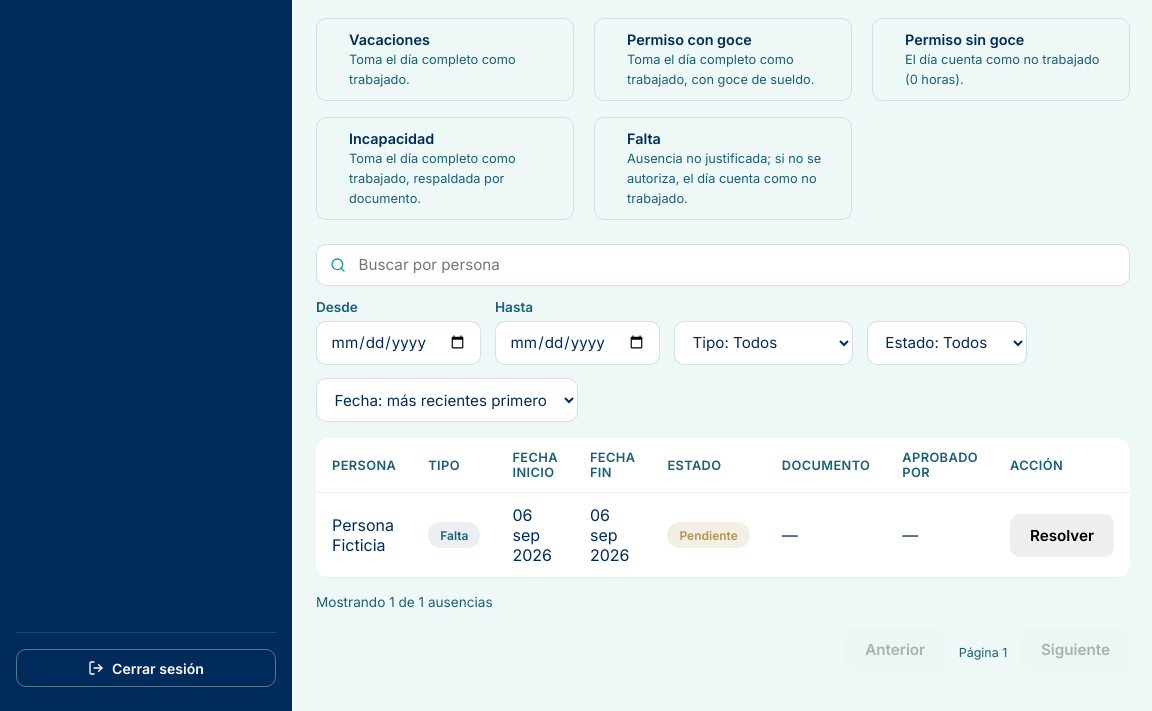
BandejaAusenciasPage › flujo completo: autorizar con reclasificación dispara el POST correcto y recarga
(page scrolled)
Check: the text "Persona Ficticia" is shown, box [316,493,412,578]
Click the button "Resolver": (1062, 535) [1010,514,1114,557]
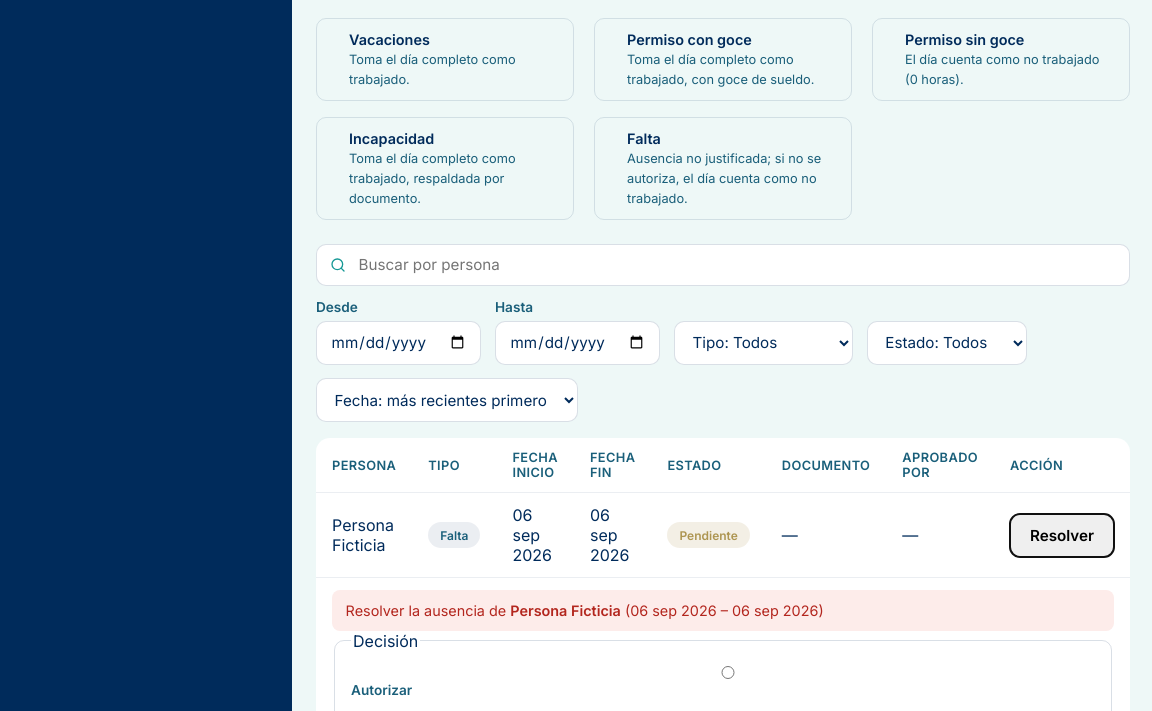
Click the radio button labelled "Autorizar": (728, 672) [356,666,1100,679]
(page scrolled)
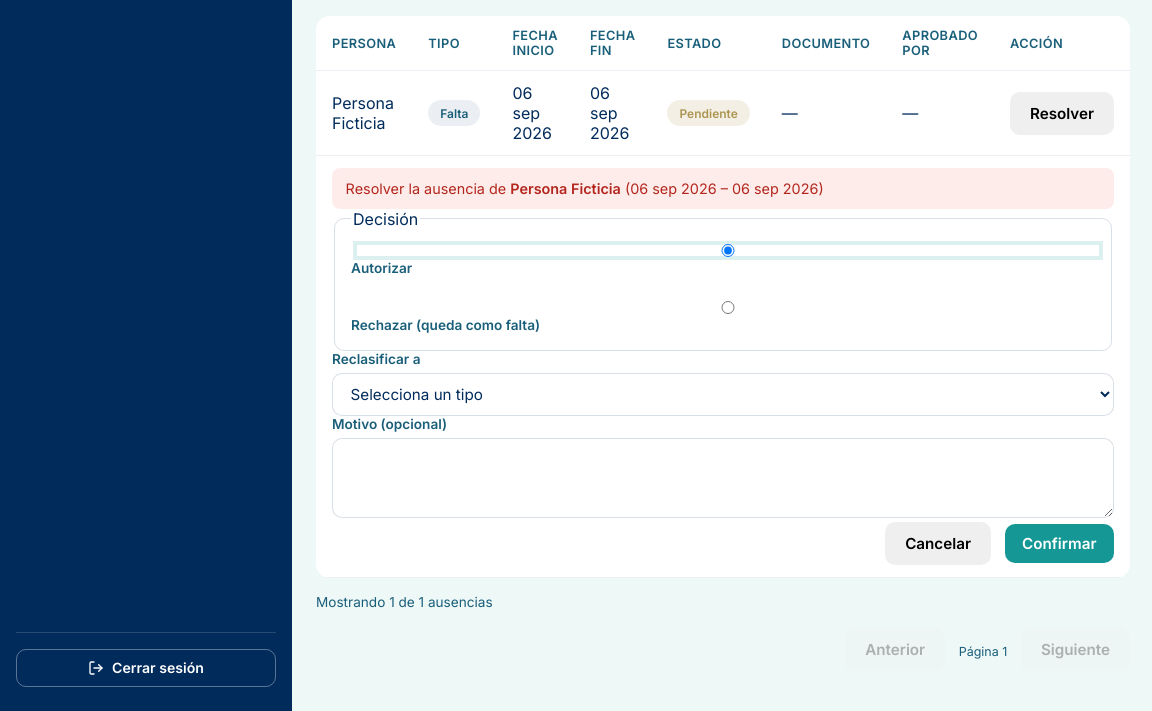
Check: the button "Confirmar" is disabled, box [1004,524,1114,564]
Select "Vacaciones" in the dropdown labelled "Reclasificar a": (723, 395) [332,373,1114,416]
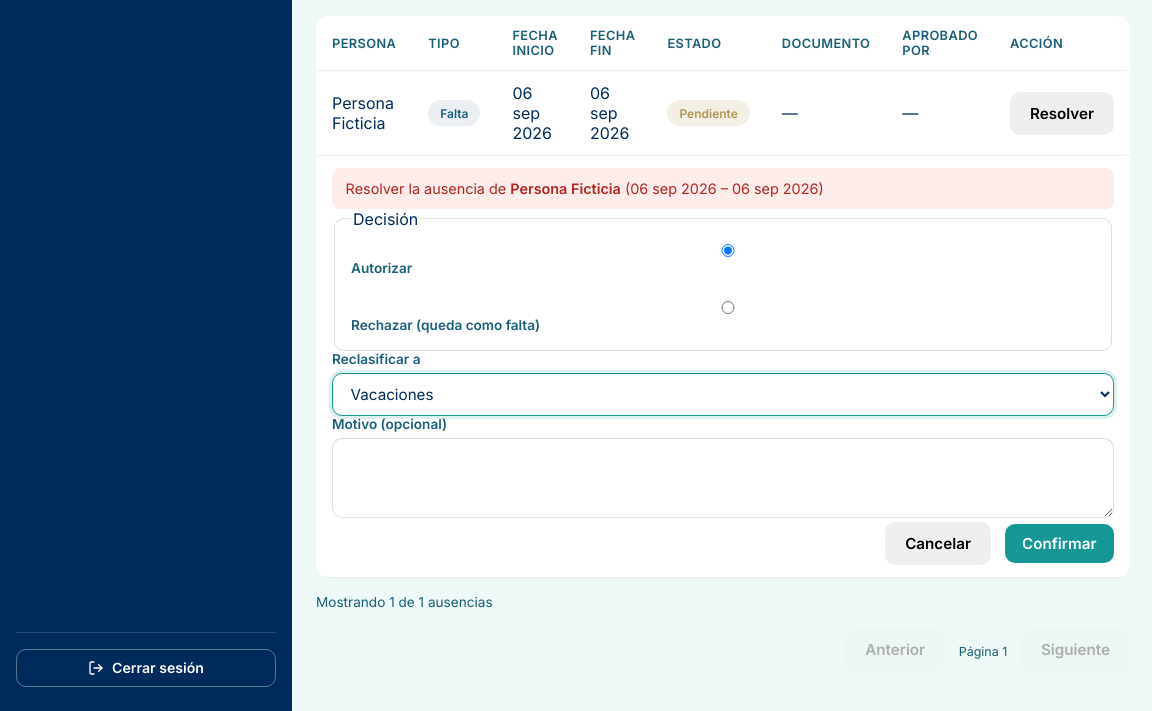
Click the button "Confirmar": (1059, 544) [1004,524,1114,564]
(page scrolled)
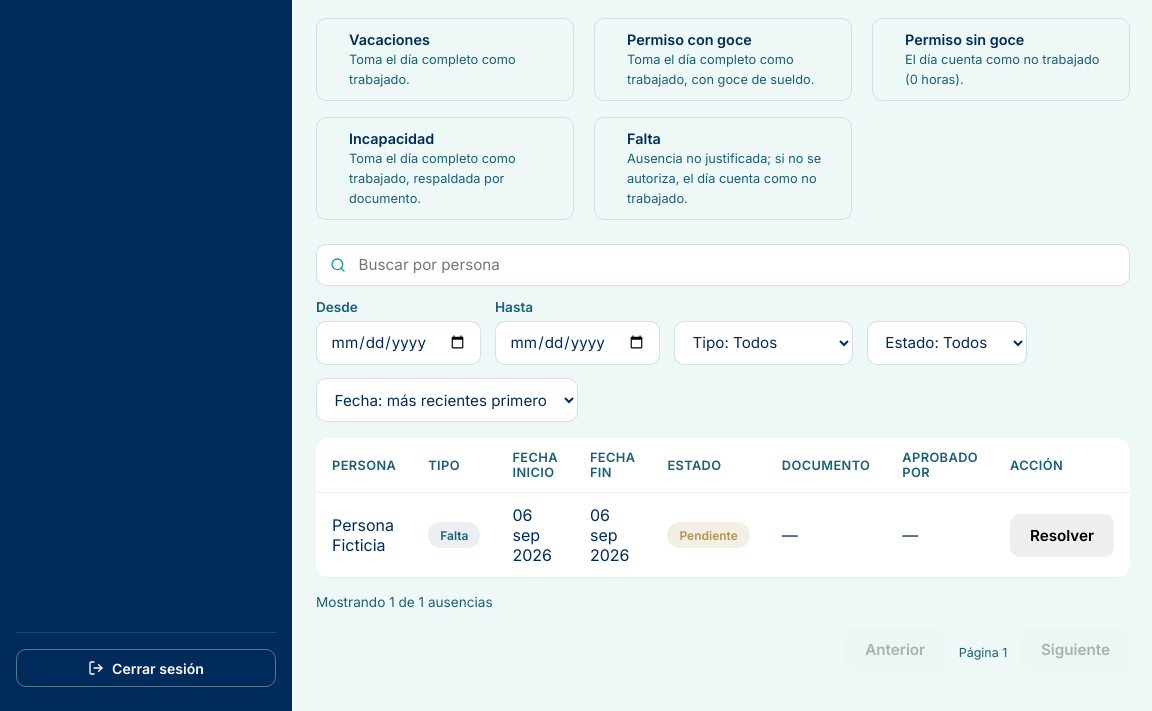
Check: the text "Resolver la ausencia de" is gone
